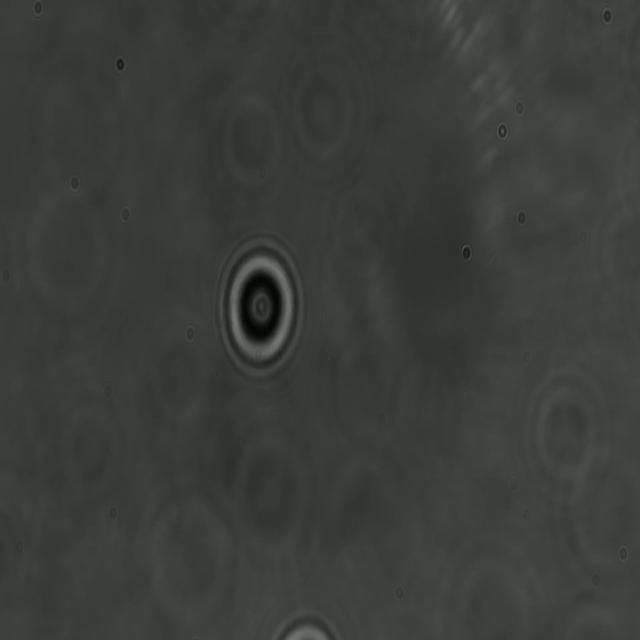LCELL: (215, 234, 307, 383)
